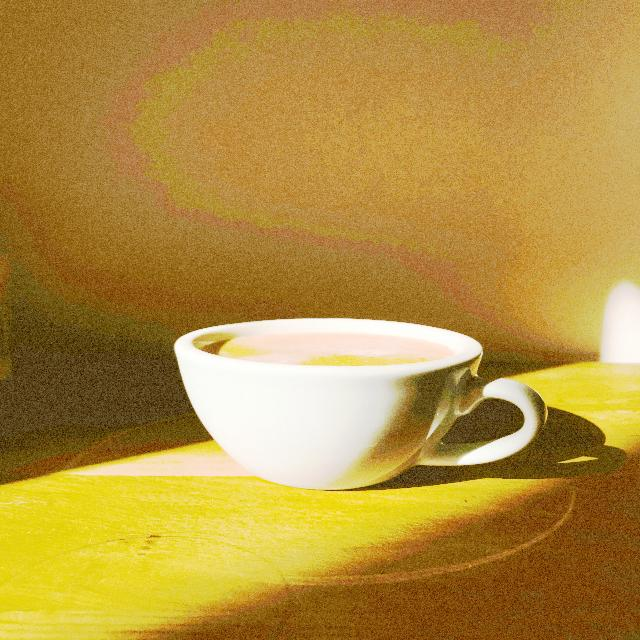drink: (176, 315, 550, 489)
